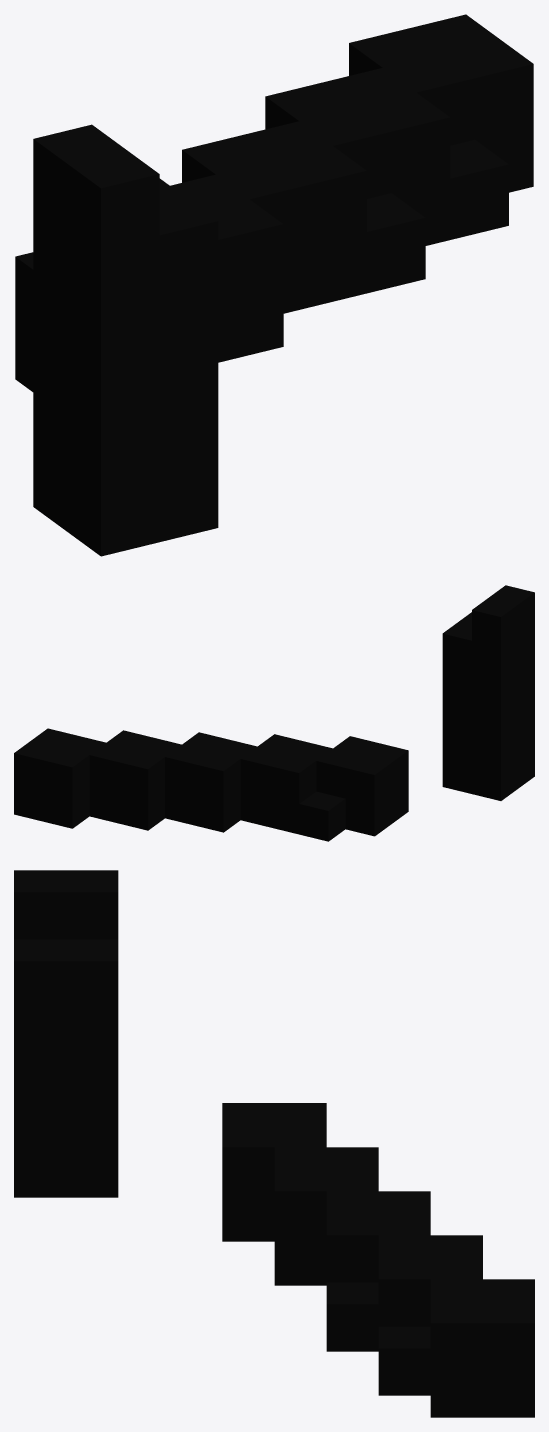
File: church-78-stonepillarfallen.glb
The picture shows the model from 3 angles, top to bottom: view 1: azimuth 30°, elevation 25°; view 2: azimuth 150°, elevation 25°; view 3: azimuth 270°, elevation 25°; orthographic projection. The views are drawn at different scales.
Parts seen in each view (by area): view 1: stonepillarfallen; view 2: stonepillarfallen; view 3: stonepillarfallen.
Boxes of the visible parts, x1=… form: stonepillarfallen: x1=15, y1=14, x2=533, y2=556; stonepillarfallen: x1=14, y1=585, x2=534, y2=841; stonepillarfallen: x1=14, y1=870, x2=534, y2=1417.
Bounding box in the file's own units: 1.2 × 0.6 × 1.
Materials: 1 (1 with a texture image).
